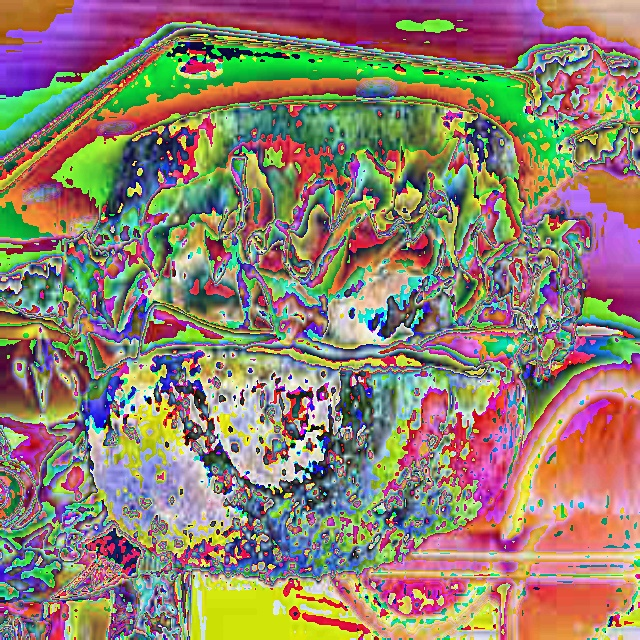background: (0, 104, 640, 639), (108, 48, 639, 181)
